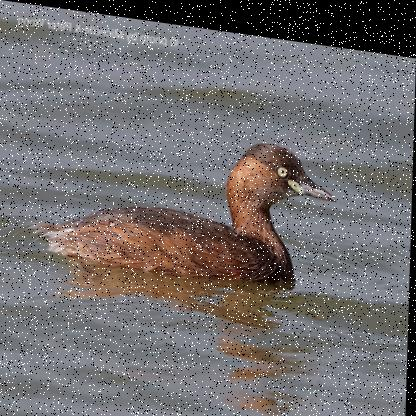Burung: (28, 110, 339, 289)
